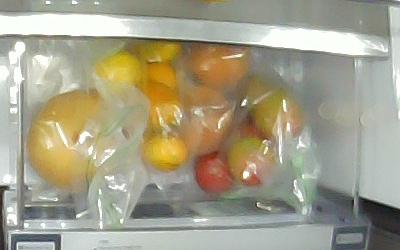peach_vinyl: (181, 86, 231, 156)
pear_vinyl: (27, 89, 105, 193), (185, 42, 247, 90)
tangerine_vinyl: (136, 79, 182, 129), (139, 131, 190, 174), (89, 50, 141, 85), (131, 40, 183, 62), (138, 62, 178, 89)
tomato_vinyl: (251, 90, 300, 143), (224, 137, 274, 188), (191, 149, 232, 194), (240, 78, 270, 121), (225, 122, 261, 148)
